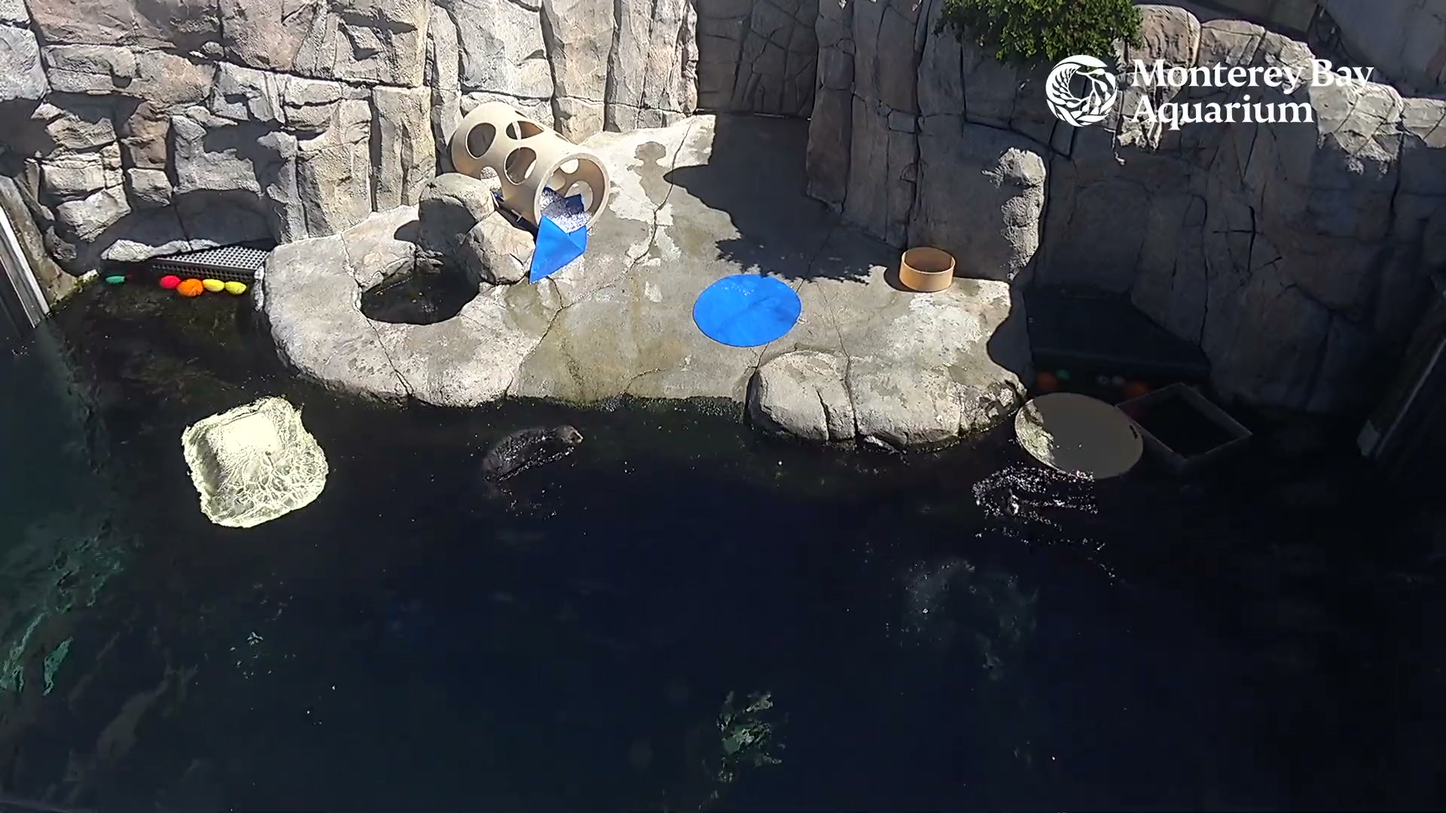Southern Sea Otter: (438, 410, 611, 498)
